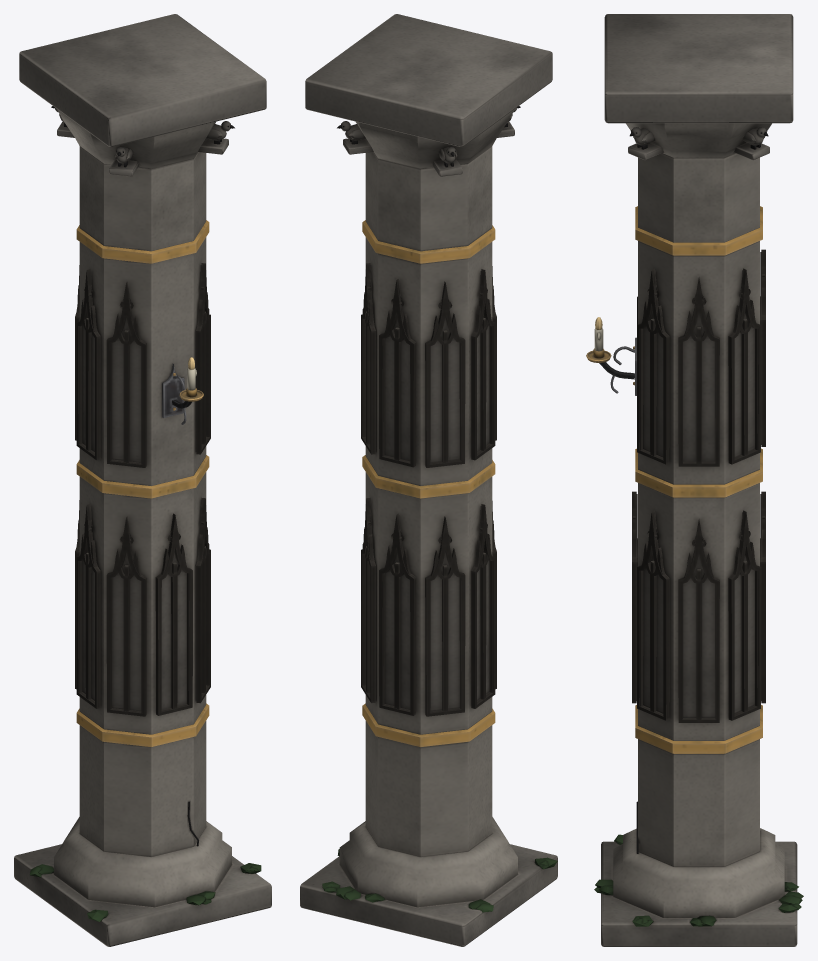
File: PillarOctagon.fbx
The picture shows the model from 3 angles, left to right: view 1: azimuth 30°, elevation 25°; view 2: azimuth 150°, elevation 25°; view 3: azimuth 270°, elevation 25°; orthographic projection. The views are drawn at different scales.
Visible parts, largest first — view 1: PillarOctagon_Main; view 2: PillarOctagon_Main; view 3: PillarOctagon_Main.
Boxes of the visible parts, x1,y1,x2,y2 form: PillarOctagon_Main: (14,14,271,946); PillarOctagon_Main: (300,14,557,946); PillarOctagon_Main: (586,14,803,946).
Size of the model in its own units: 274 by 1200 by 277.
